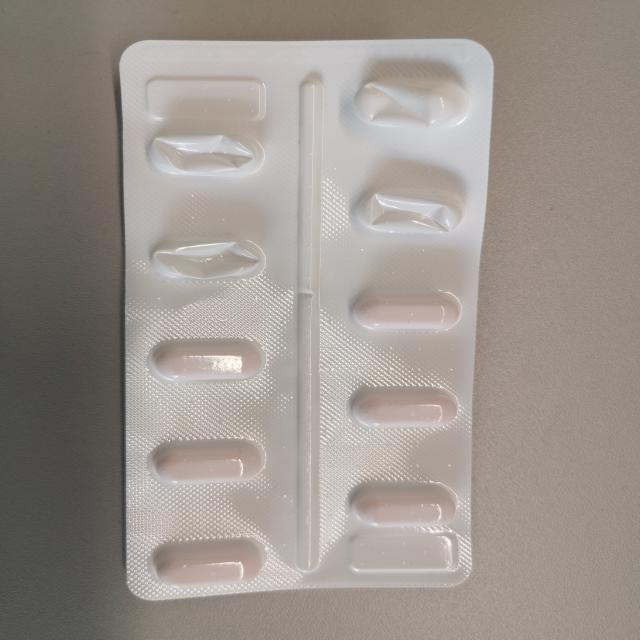Empty: (336, 63, 486, 140), (334, 176, 476, 243), (134, 120, 276, 186), (140, 231, 282, 292)
Pill: (144, 532, 280, 594), (144, 331, 280, 388), (140, 427, 275, 484), (340, 376, 462, 434), (336, 286, 466, 340), (344, 474, 458, 532)
